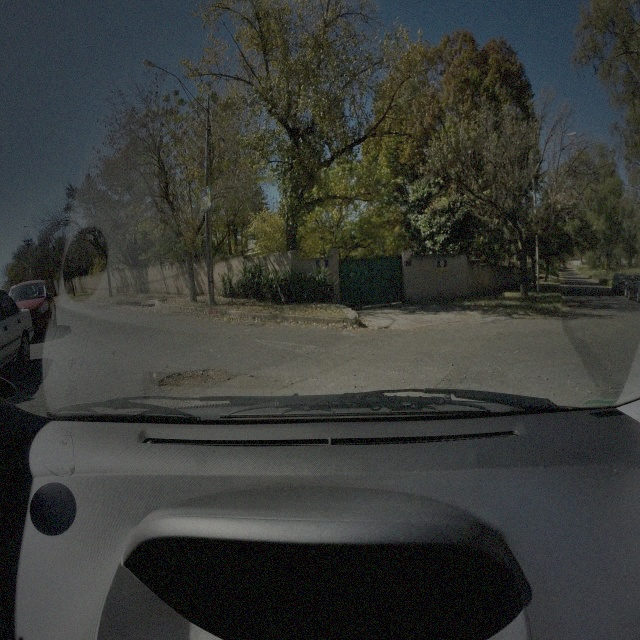pothole: (158, 369, 235, 390)
